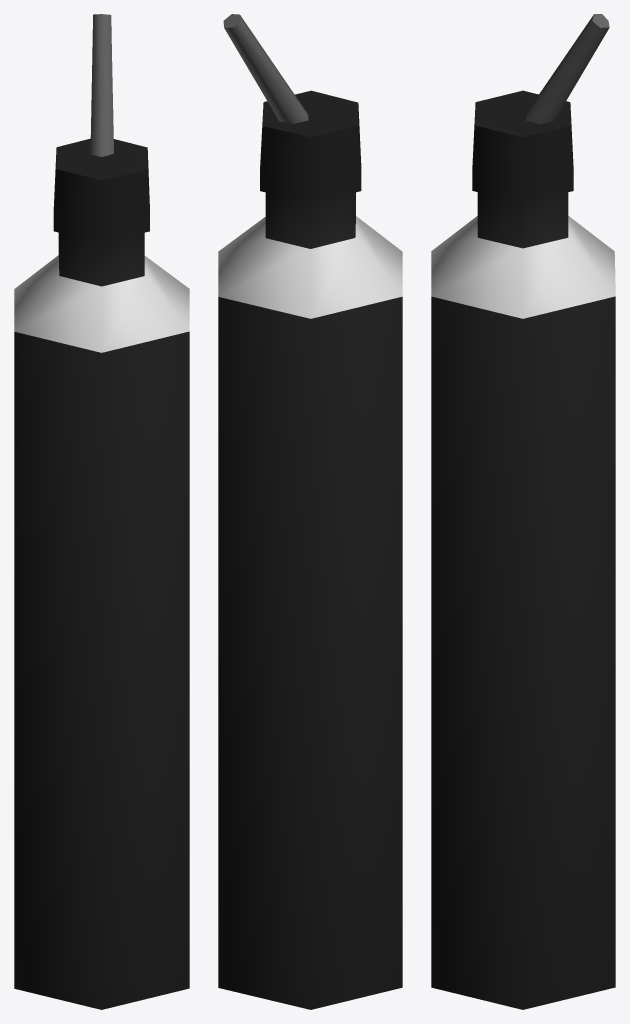
Rendered from shop_006.glb.
The picture shows the model from 3 angles, left to right: view 1: azimuth 30°, elevation 25°; view 2: azimuth 150°, elevation 25°; view 3: azimuth 270°, elevation 25°; orthographic projection. The views are drawn at different scales.
Parts seen in each view (by area): view 1: shop_006; view 2: shop_006; view 3: shop_006.
Part boxes in pixels (x1,y1,x2,y2): shop_006: [14, 14, 189, 1009]; shop_006: [218, 14, 402, 1009]; shop_006: [431, 14, 615, 1009].
Bounding box in the file's own units: 0.0612 × 0.3068 × 0.053.
Materials: 1 (1 with a texture image).
